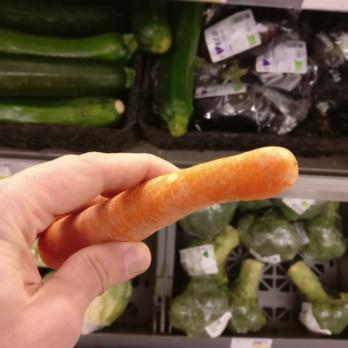Carrot: (29, 139, 302, 270)
